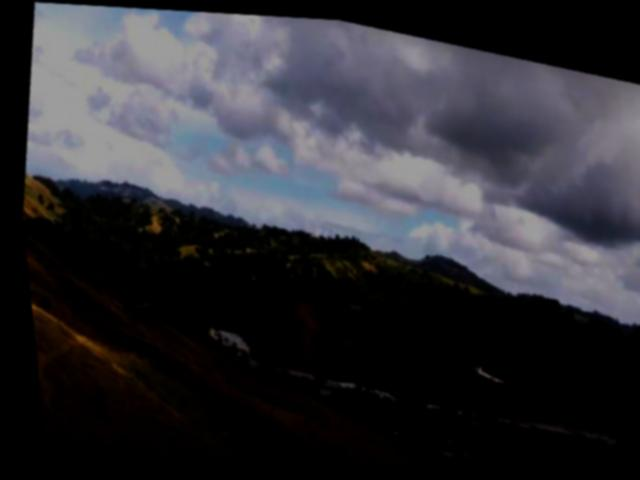iha: (462, 354, 497, 379)
